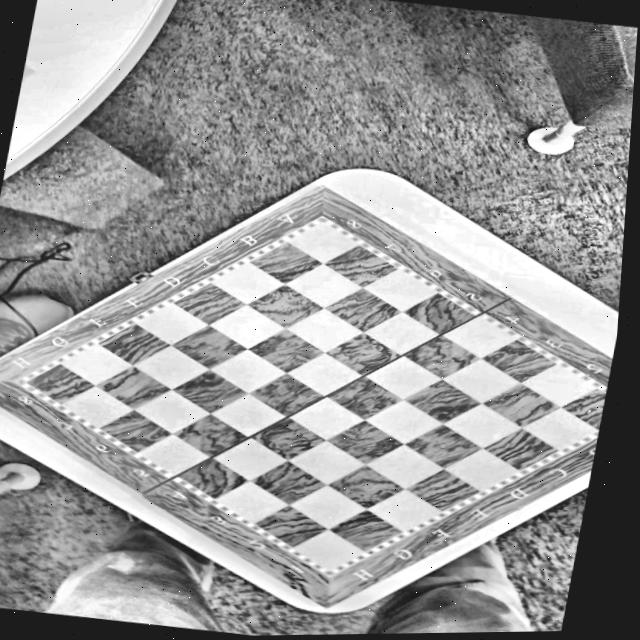chessboard: (0, 190, 612, 611)
